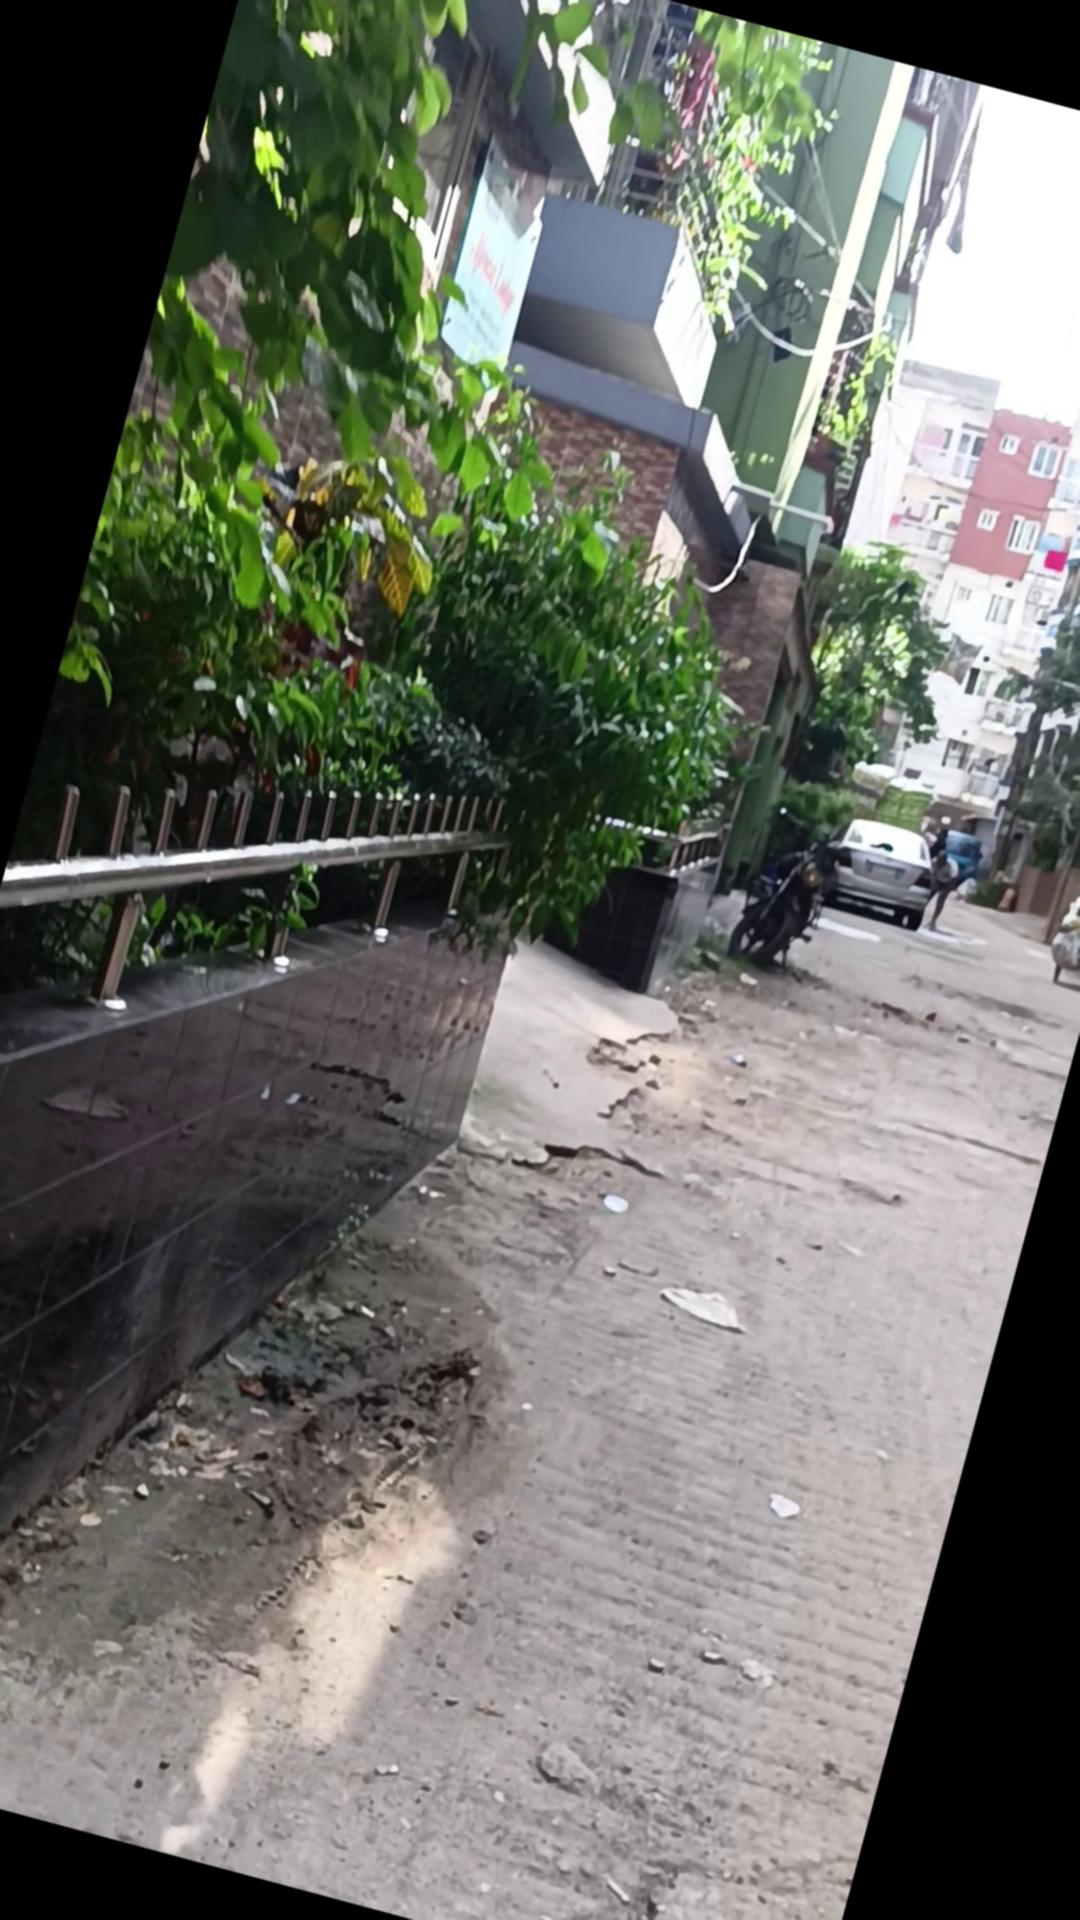Broken-road: (0, 732, 1080, 1920)
Car: (806, 808, 946, 932)
Light-pole: (722, 806, 861, 985)
Muddy road: (910, 808, 990, 938)
Tree: (0, 676, 551, 1865), (539, 794, 730, 1006)
